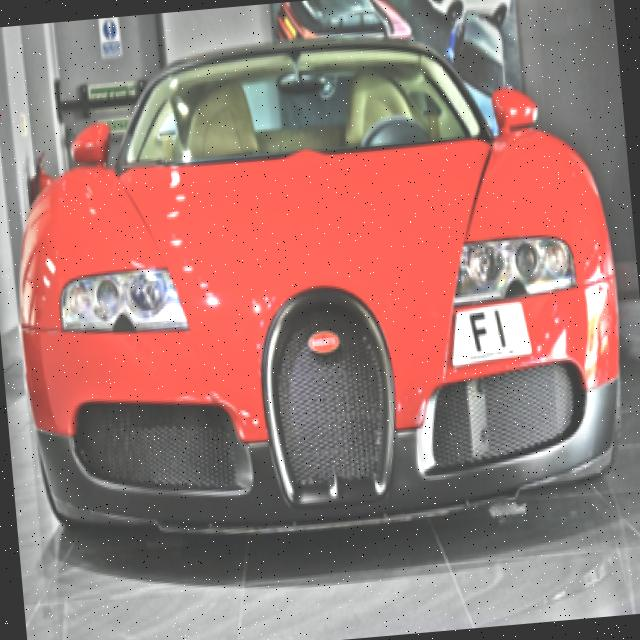Autre: (306, 327, 342, 356)
